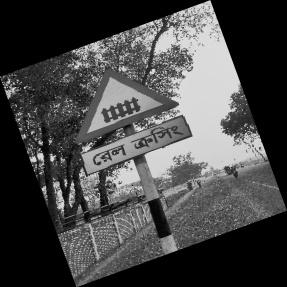Rail-crossing: (73, 68, 189, 180)
